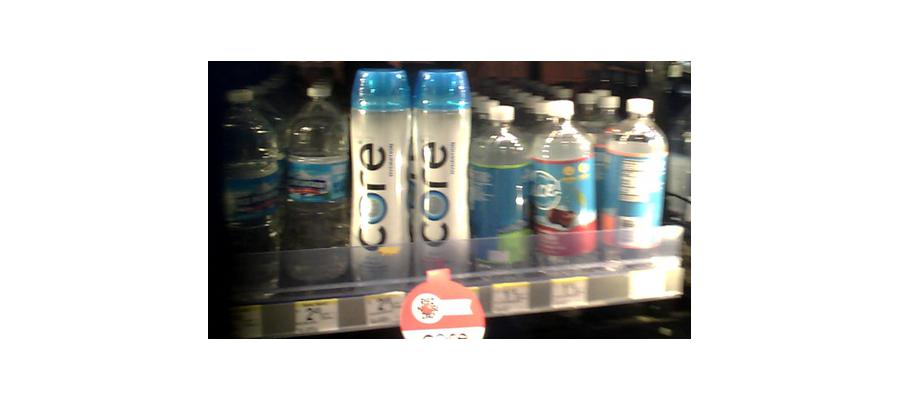bottle: (349, 67, 412, 284), (413, 68, 472, 276), (286, 80, 344, 284), (598, 97, 667, 266), (223, 83, 277, 297), (533, 99, 596, 272), (475, 100, 528, 270)
